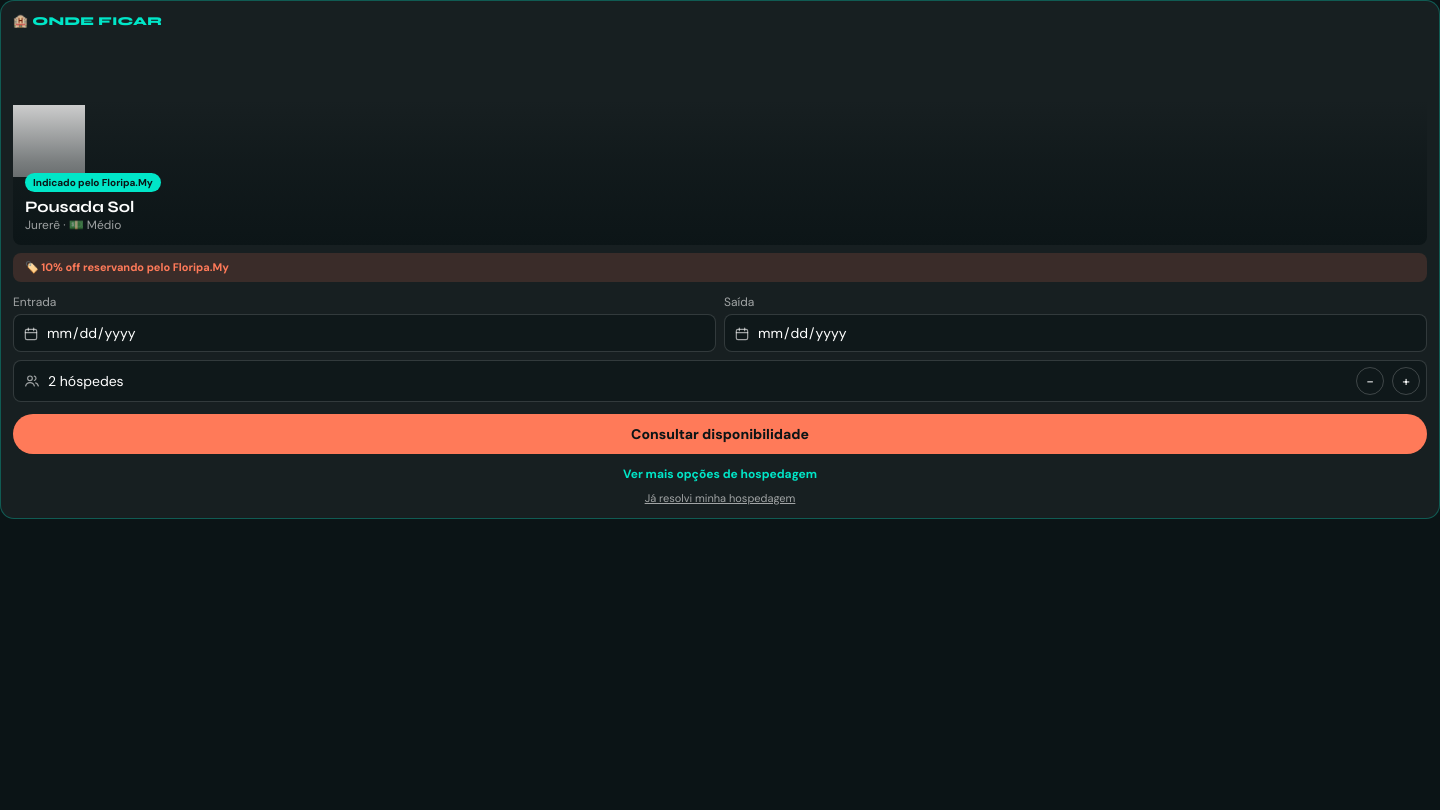
LodgingCard › lists the other lodgings with their budget, then Booking with the tourist's stay
This screenshot has width=1440, height=810.
Step 1. Type "2027-01-12" into the date field labelled "Entrada" → (364, 332), box [13,314,716,352]
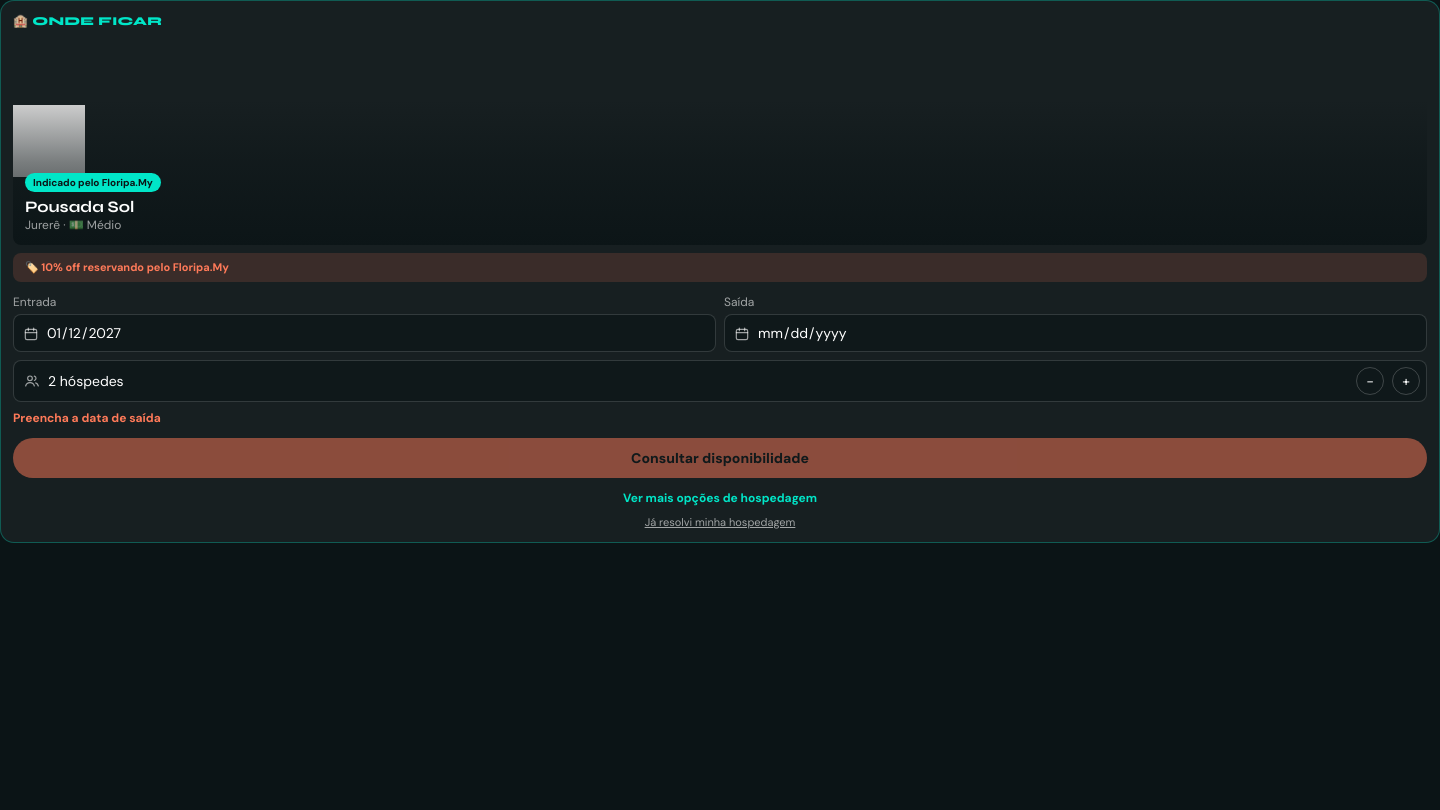
Step 2. Type "2027-01-15" into the date field labelled "Saída" → (1076, 332), box [724,314,1427,352]
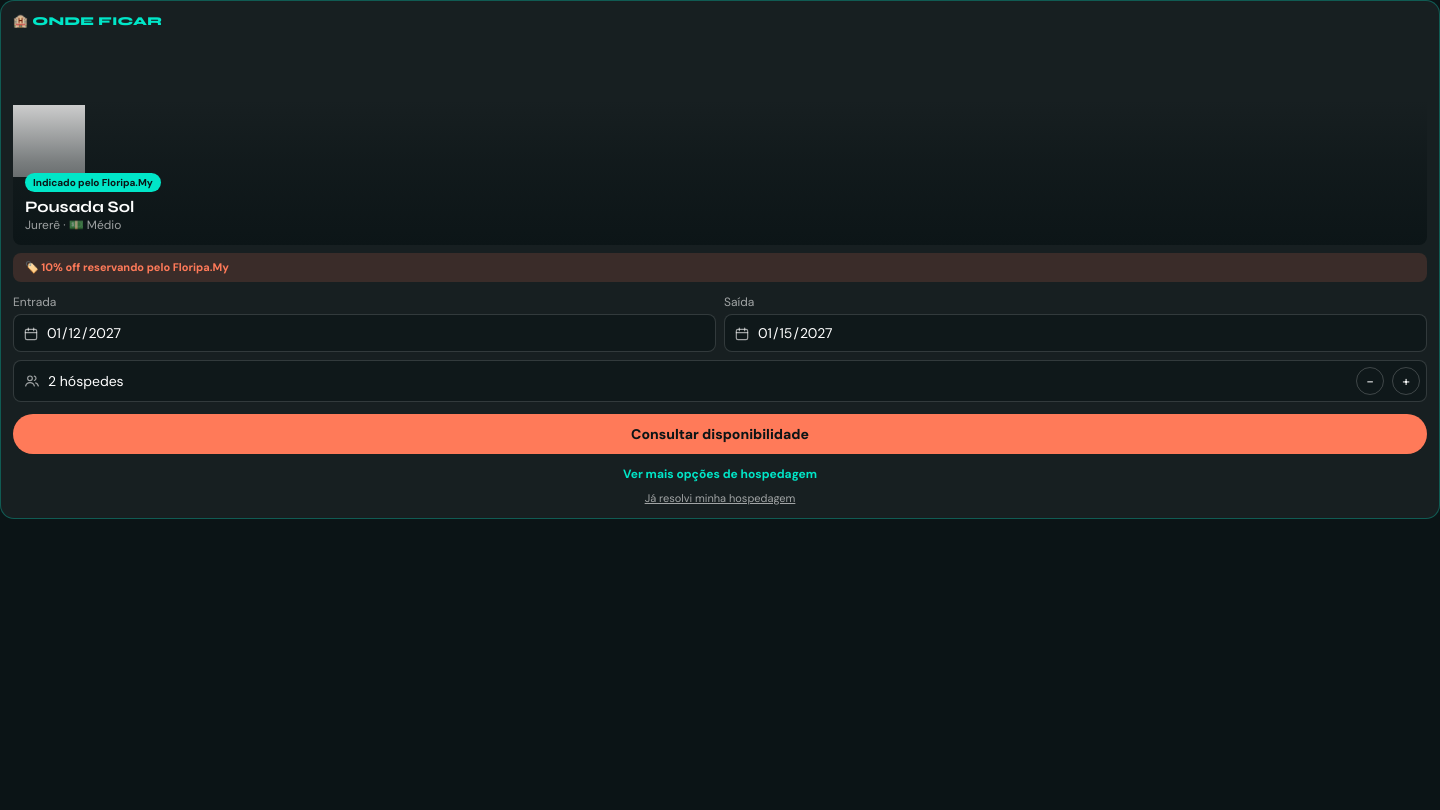
Step 3. Click the button "Ver mais opções de hospedagem" → click(720, 474), box [623,466,817,482]
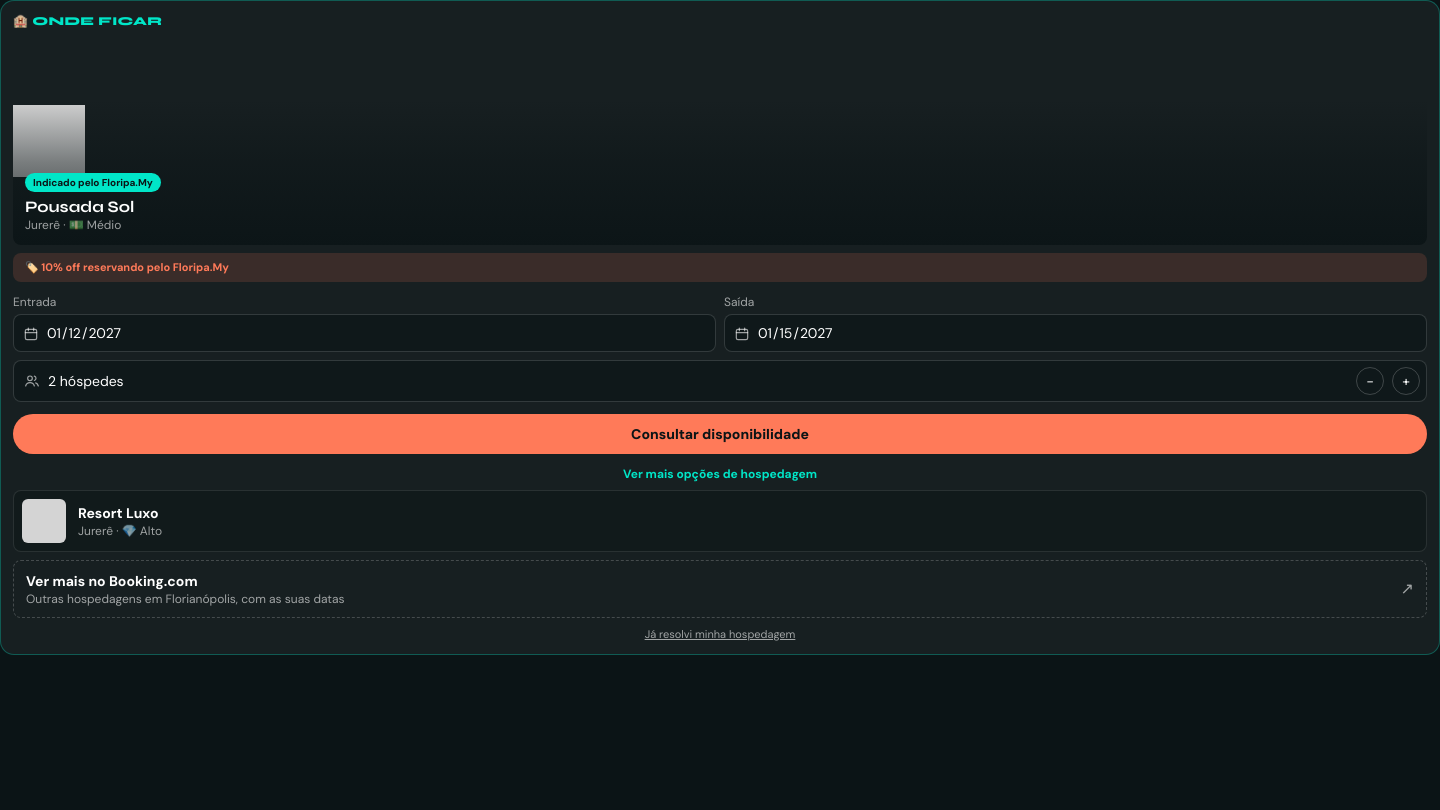
Expected: the text "Jurerê · 💎 Alto" is shown, [78,522,162,538]
